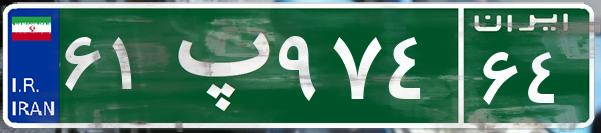1: (110, 28, 158, 105)
4: (385, 28, 445, 110), (525, 38, 570, 115)
6: (57, 26, 110, 107), (475, 38, 525, 113)
7: (330, 28, 385, 110)
9: (273, 28, 330, 110)
پ: (158, 15, 273, 115)
